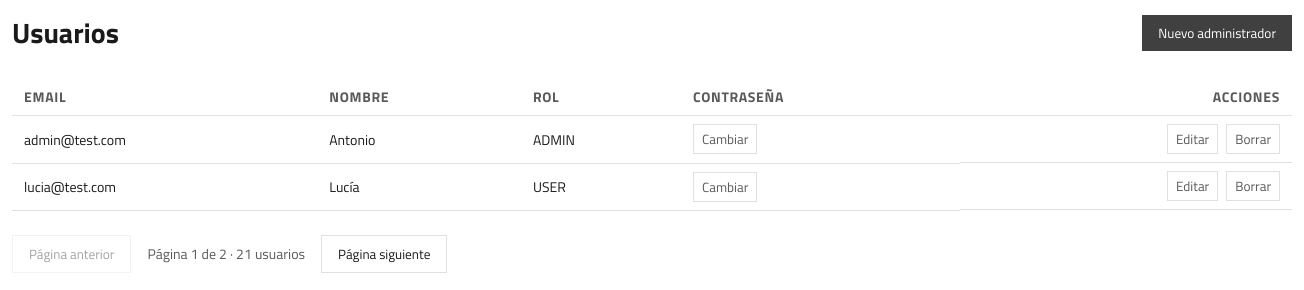
AdminUsers › vuelve a la página anterior
Check: the cell "admin@test.com" is shown, box [12,116,317,163]
Click the button "Página siguiente".
click(384, 254)  # box [321,234,447,272]
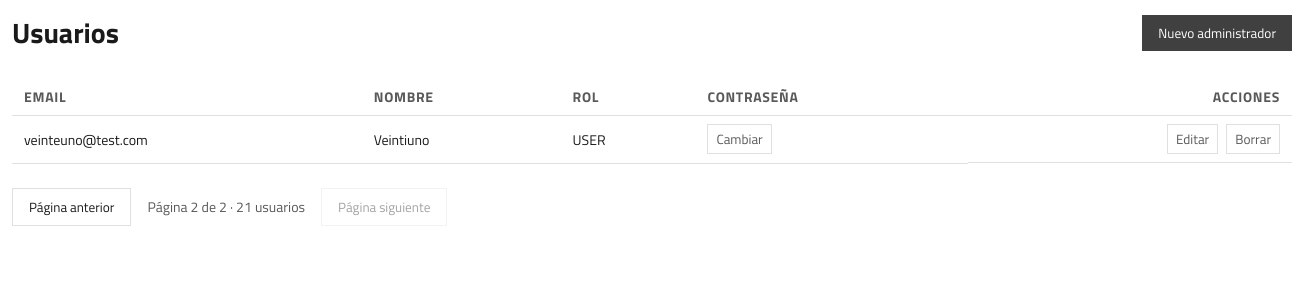
Check: the cell "veinteuno@test.com" is shown, box [12,116,362,163]
Click the button "Página anterior".
click(72, 206)  # box [12,188,131,226]
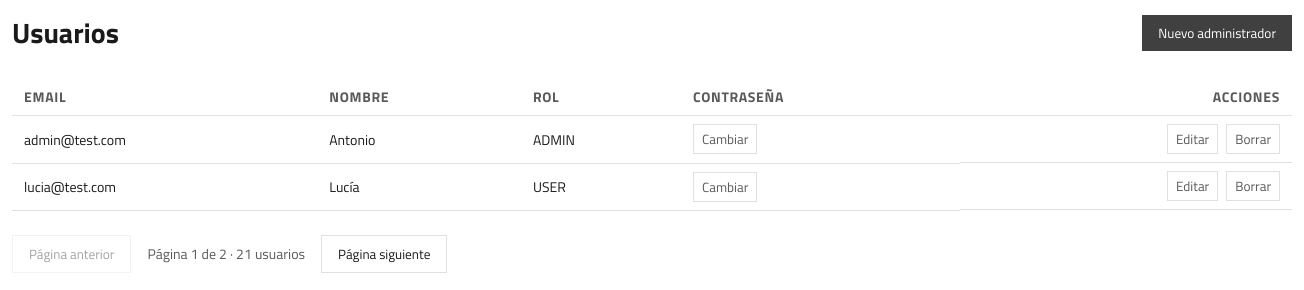
Check: the cell "lucia@test.com" is shown, box [12,163,317,210]
